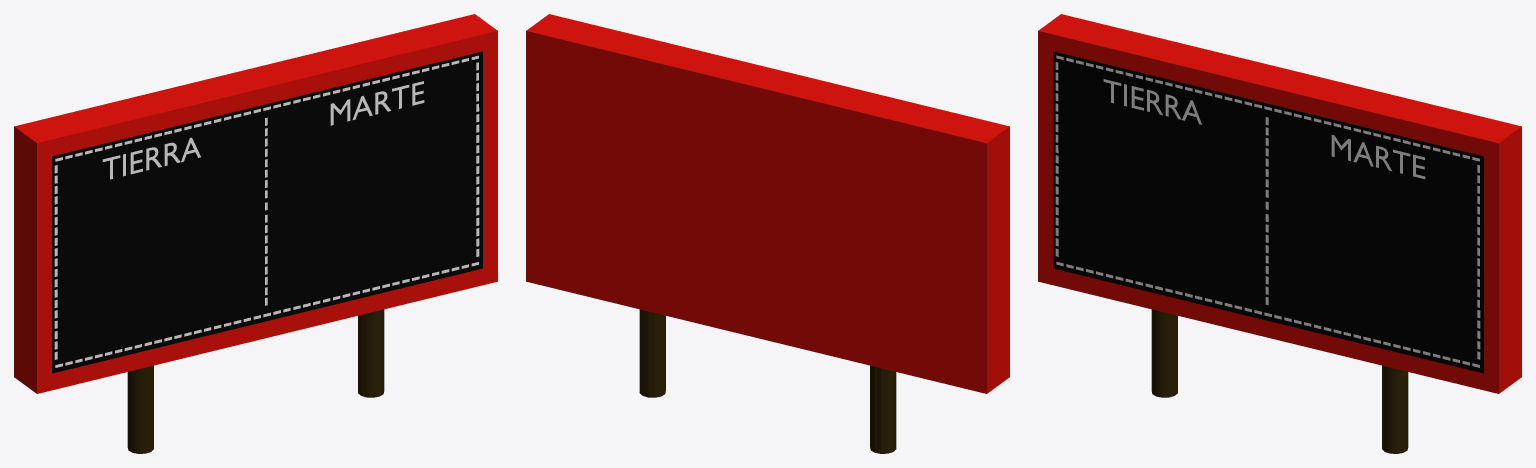
Rendered from ScoreBoard.fbx.
3 renders of one model, left to right at view 1: azimuth 30°, elevation 25°; view 2: azimuth 150°, elevation 25°; view 3: azimuth 330°, elevation 25°, orthographic.
Visible parts, largest first — view 1: Cube, Text.005; view 2: Cube; view 3: Cube, Text.005.
Boxes of the visible parts, x1,y1,x2,y2 form: Cube: [14, 14, 497, 453]; Text.005: [54, 55, 479, 367]; Cube: [526, 14, 1009, 453]; Cube: [1038, 14, 1521, 453]; Text.005: [1055, 55, 1480, 367].
Size of the model in its own units: 751 by 532 by 65.08.
